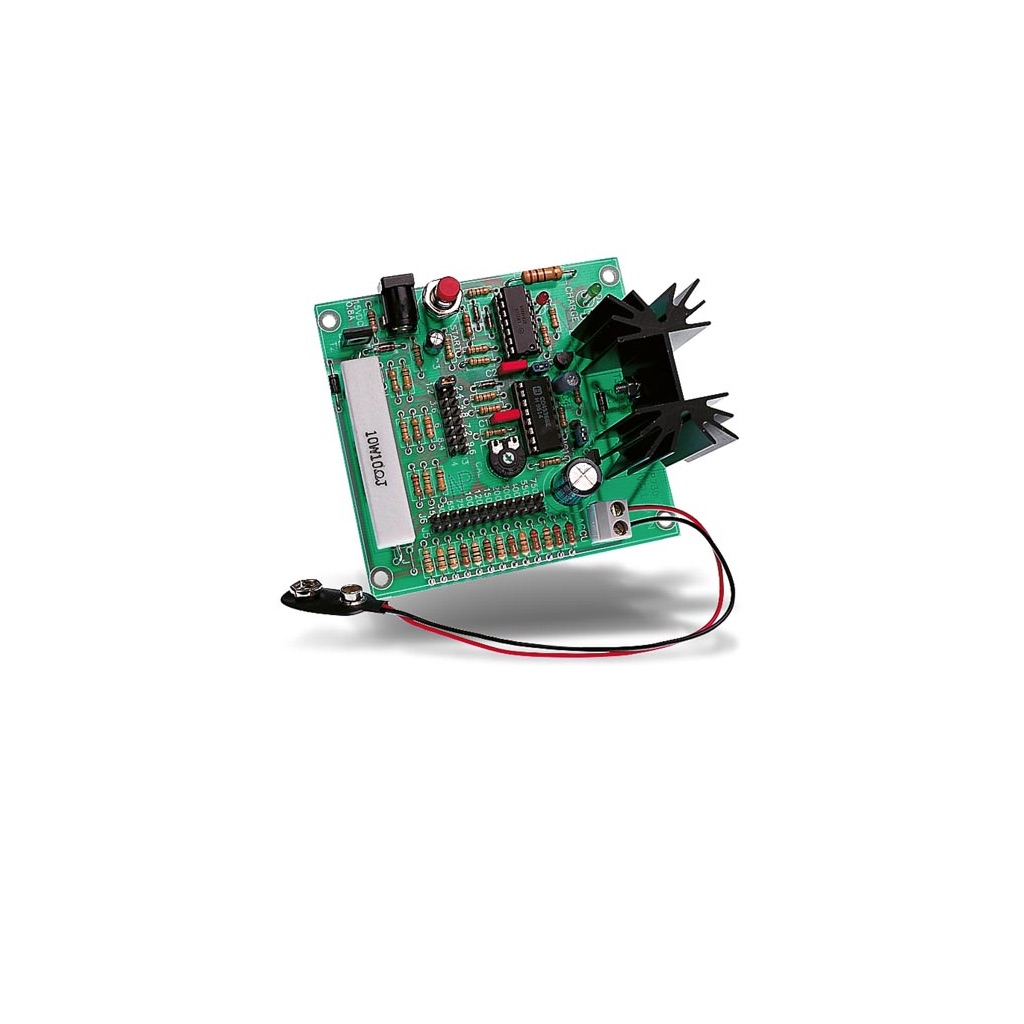Capacitor: (551, 457, 602, 506), (551, 369, 582, 395), (424, 330, 445, 358), (475, 378, 498, 392)
Diode: (326, 371, 345, 397), (596, 389, 610, 413), (372, 342, 399, 354), (484, 311, 496, 333), (471, 303, 482, 325)
LED: (586, 281, 603, 299), (535, 290, 551, 307)
Resistor: (519, 264, 567, 286), (421, 410, 438, 441), (397, 417, 413, 447), (527, 527, 544, 554), (410, 342, 426, 370), (481, 537, 497, 564), (472, 390, 500, 405), (364, 308, 380, 334), (398, 366, 414, 392), (538, 323, 554, 349), (516, 530, 532, 556), (562, 521, 578, 547), (481, 426, 510, 440), (410, 415, 424, 444), (410, 471, 424, 500), (469, 539, 484, 566), (541, 525, 556, 552), (551, 523, 566, 550), (461, 312, 475, 340), (421, 468, 435, 496), (547, 305, 562, 331), (493, 534, 508, 560), (505, 533, 520, 559), (536, 455, 563, 469), (477, 403, 504, 417), (387, 366, 400, 395), (421, 549, 436, 574), (443, 334, 456, 362), (556, 404, 570, 430), (457, 541, 471, 567), (434, 547, 448, 572), (466, 286, 492, 299), (446, 544, 459, 570), (464, 344, 491, 356), (434, 466, 446, 492), (466, 356, 494, 367), (574, 386, 584, 407)
